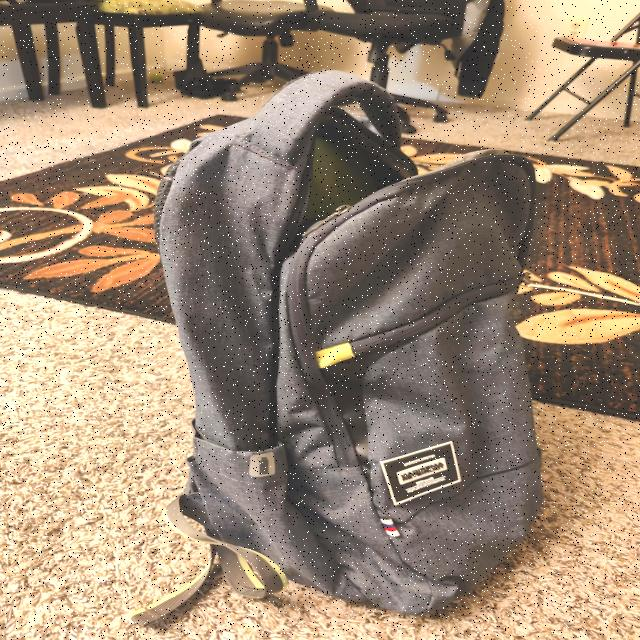bag: (157, 74, 543, 616)
